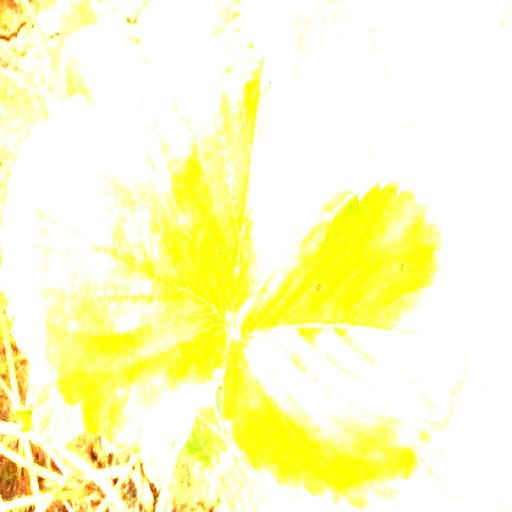Leaf Spot: (217, 177, 476, 511), (0, 88, 232, 459), (140, 0, 385, 321)
